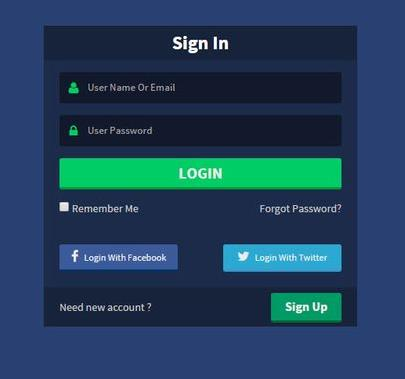button: (58, 157, 343, 191), (221, 243, 343, 273), (58, 242, 179, 270), (270, 292, 343, 323)
checkbox: (57, 199, 71, 213)
checkbox_with_label: (56, 197, 140, 215)
field: (59, 71, 342, 104), (58, 115, 342, 146)
